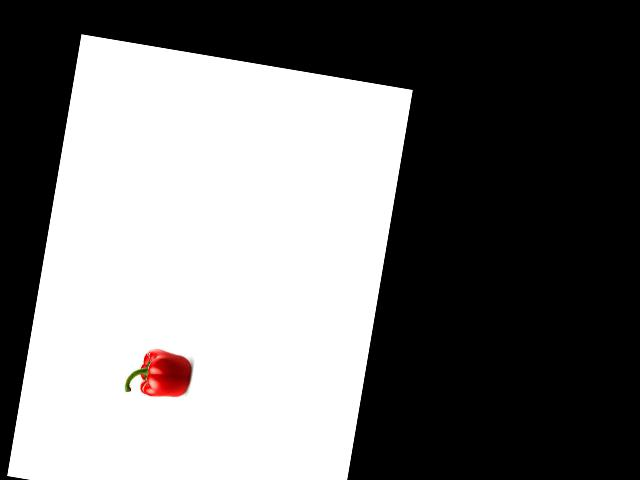bell_pepper: (123, 345, 194, 403)
